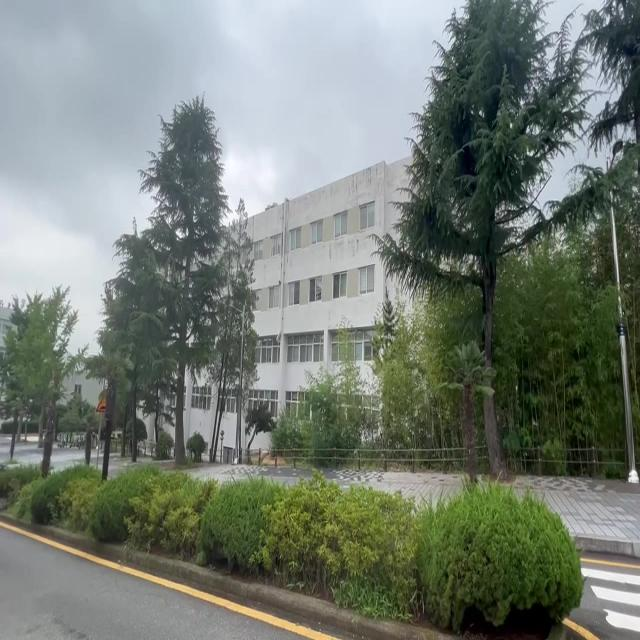building: (258, 171, 382, 382)
